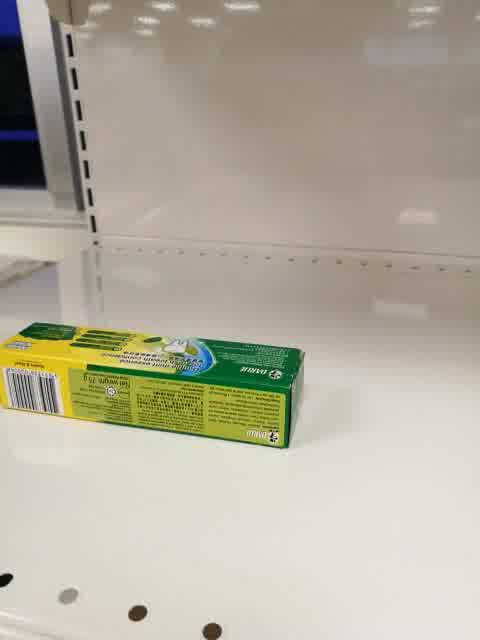toothpaste: (1, 320, 306, 451)
